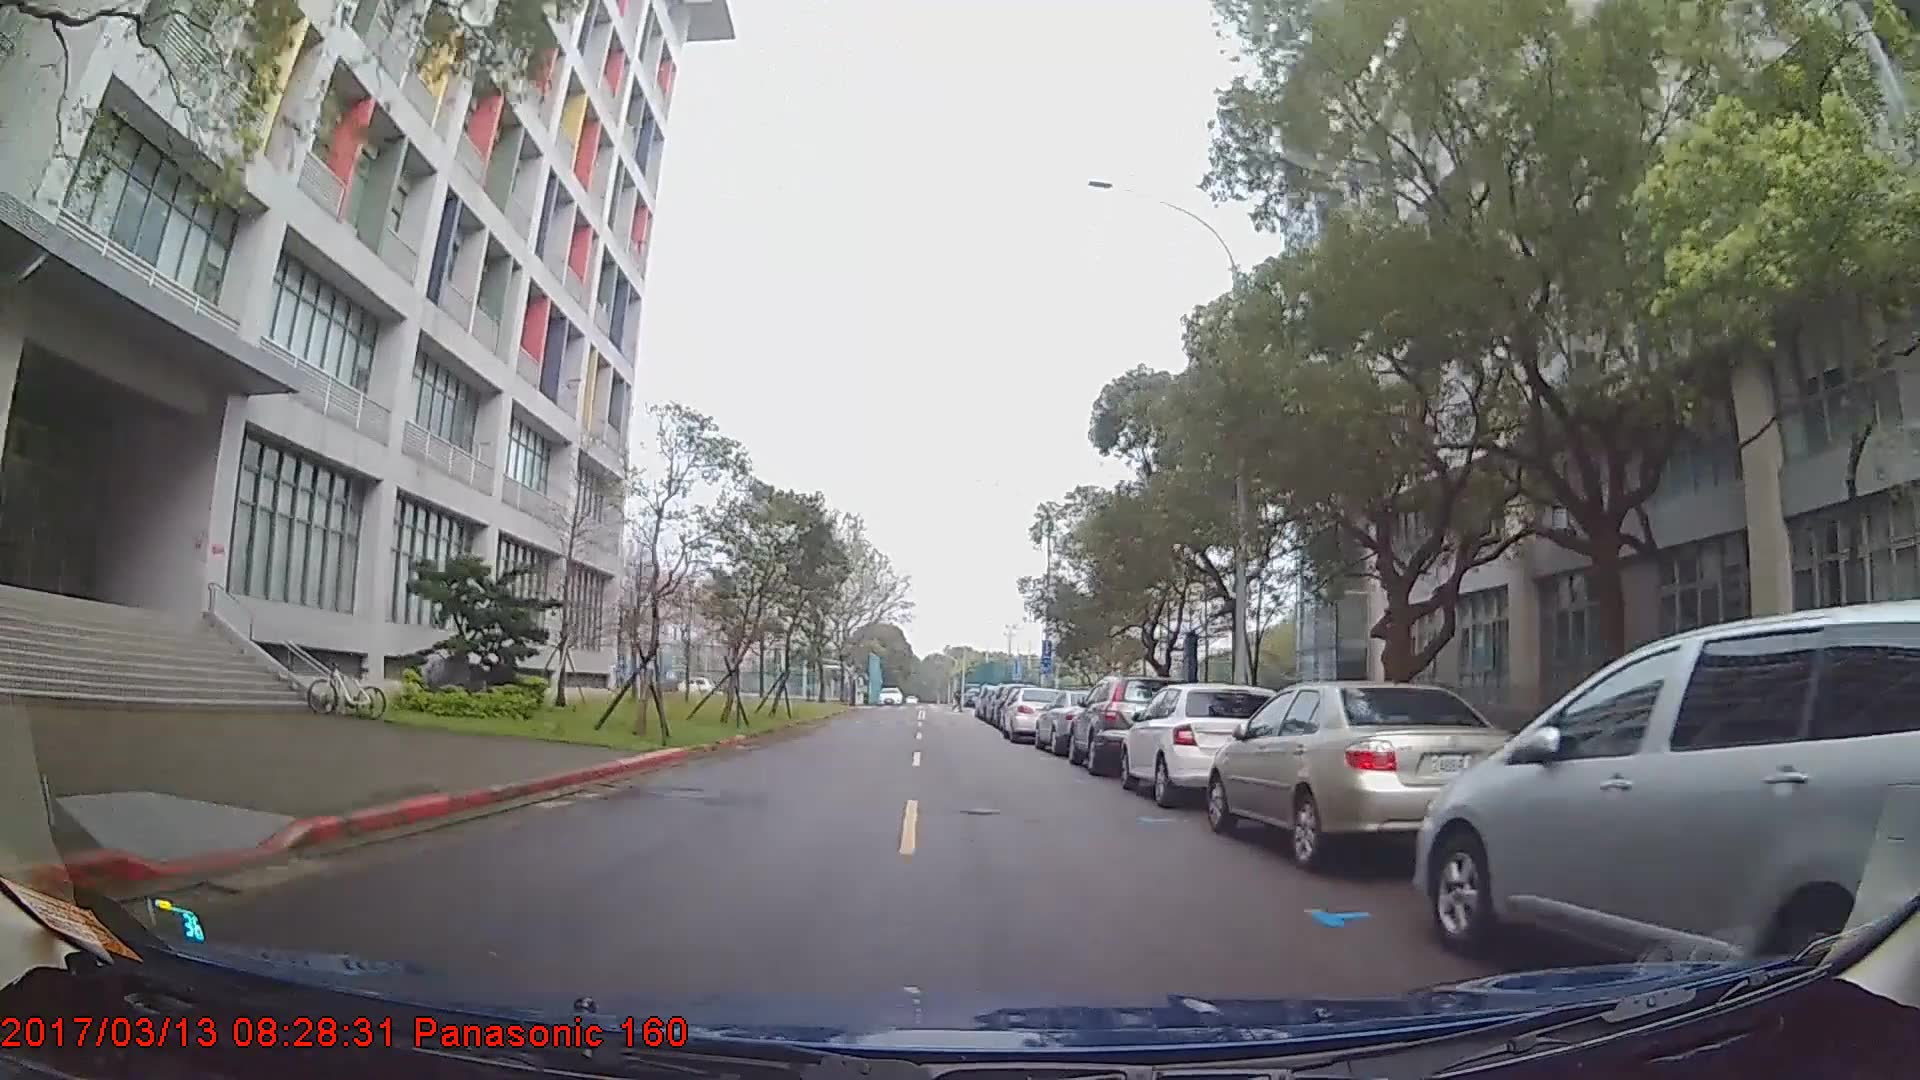vehicle: (1411, 596, 1920, 1021), (1211, 676, 1524, 869), (1120, 682, 1282, 806), (1065, 675, 1185, 774), (1033, 686, 1118, 754), (1000, 684, 1065, 742)
